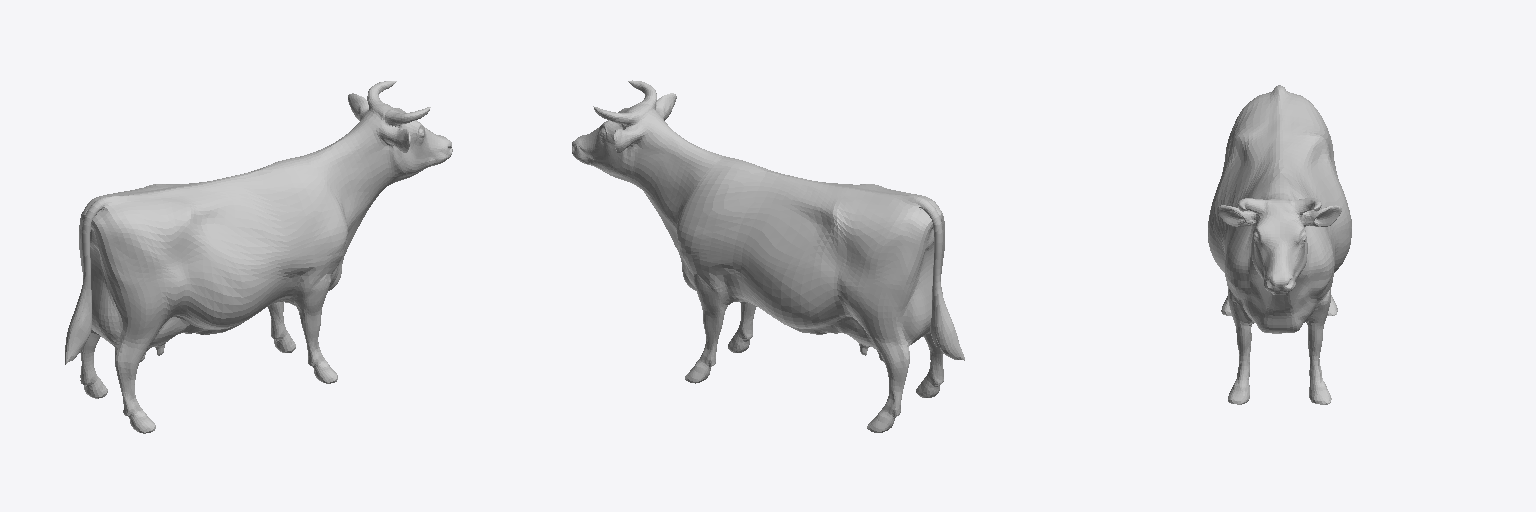
File: cow.obj
3 renders of one model, left to right at view 1: azimuth 30°, elevation 25°; view 2: azimuth 150°, elevation 25°; view 3: azimuth 270°, elevation 25°, orthographic.
Visible parts, largest first — view 1: bunny; view 2: bunny; view 3: bunny.
Boxes of the visible parts, x1,y1,x2,y2 form: bunny: [65, 81, 452, 433]; bunny: [572, 80, 964, 432]; bunny: [1208, 85, 1351, 404].
Bounding box in the file's own units: 2 × 1.23 × 0.6458.